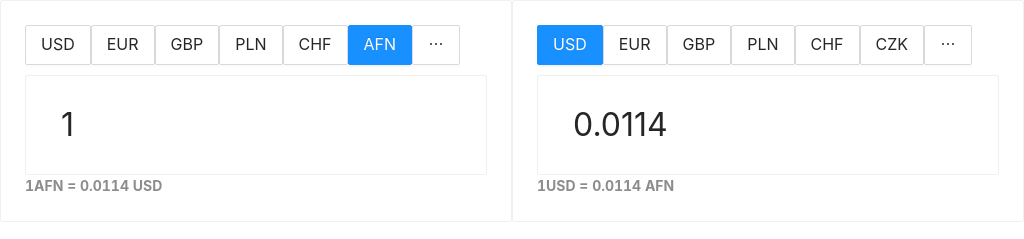
converter component test › change currency selected test
Click the 2nd button "EUR" at (635, 45), box [603,25,666,65]
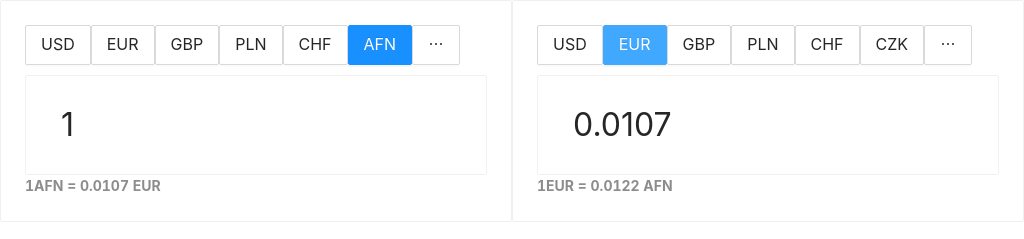
Now the text "1EUR = 0.0122 AFN" is shown, box [537,177,673,194]
